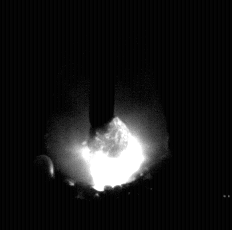arame: (89, 0, 115, 138)
poca: (46, 0, 168, 230)
